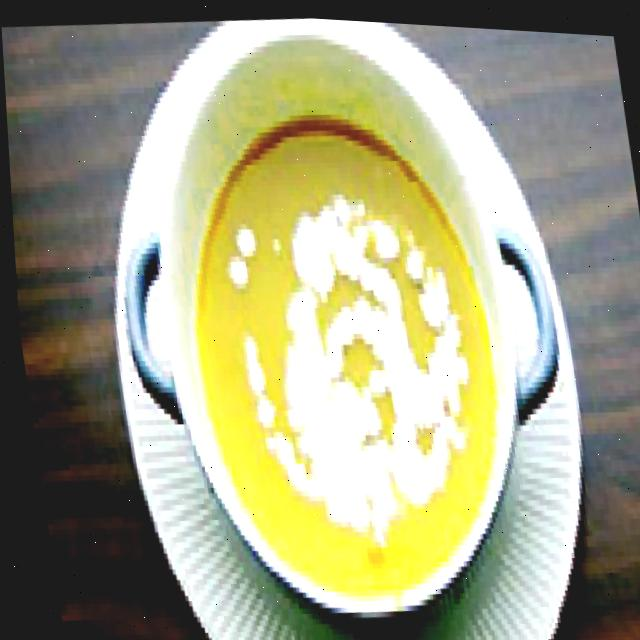汤锅炖物: (65, 3, 623, 640)
